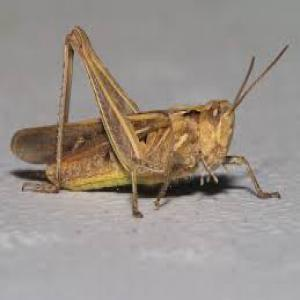locust: (1, 47, 289, 199)
